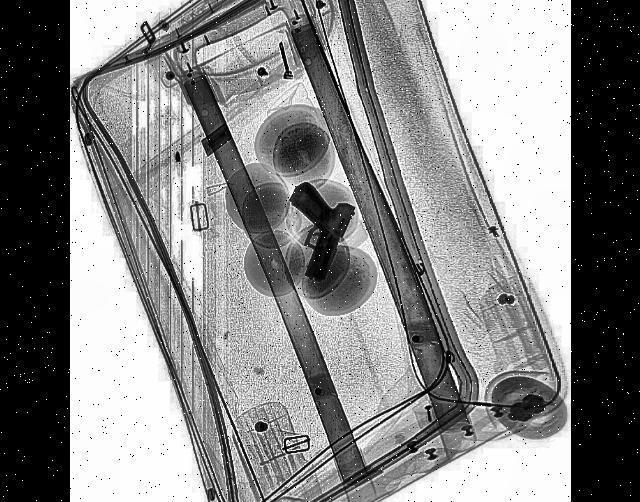Gun: (270, 169, 358, 293)
